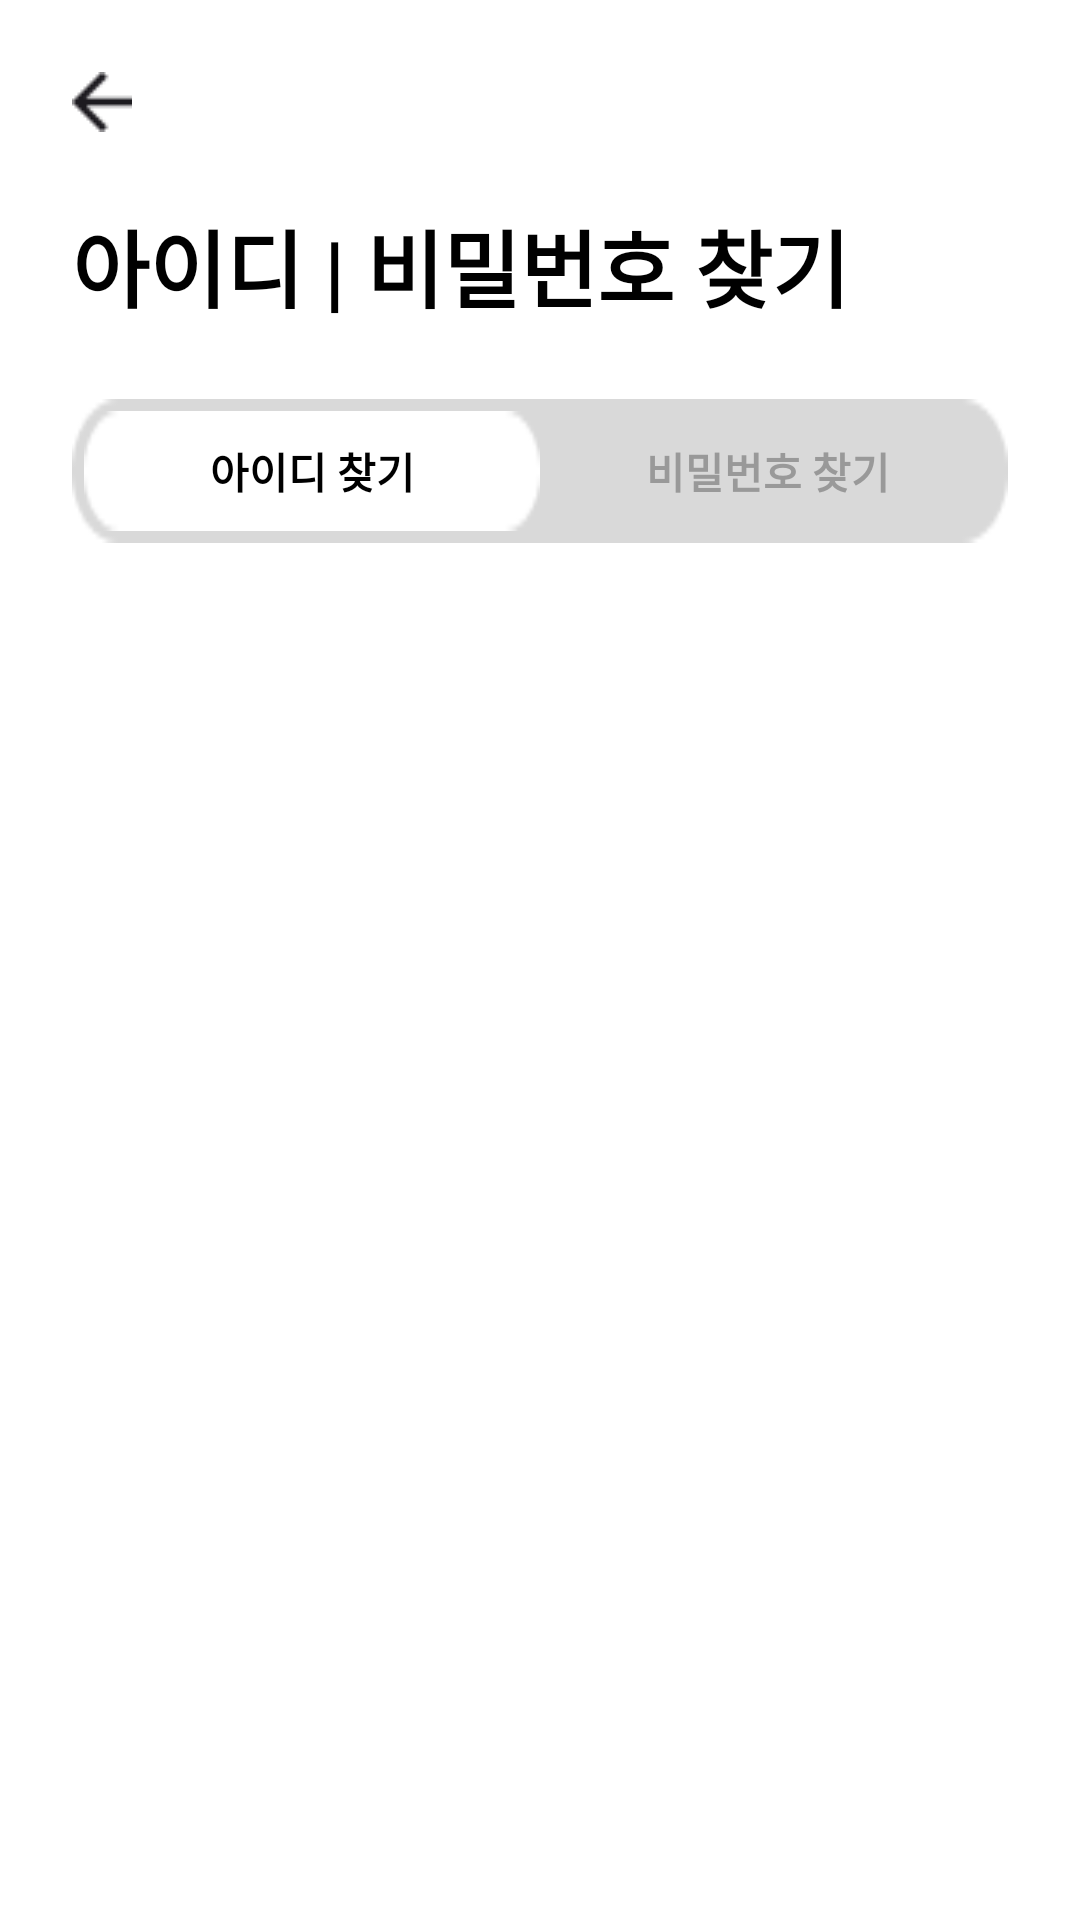

Where to tap for icons on this 1080x1920 app screen, as (x,y):
뒤로가기: (102,102)
